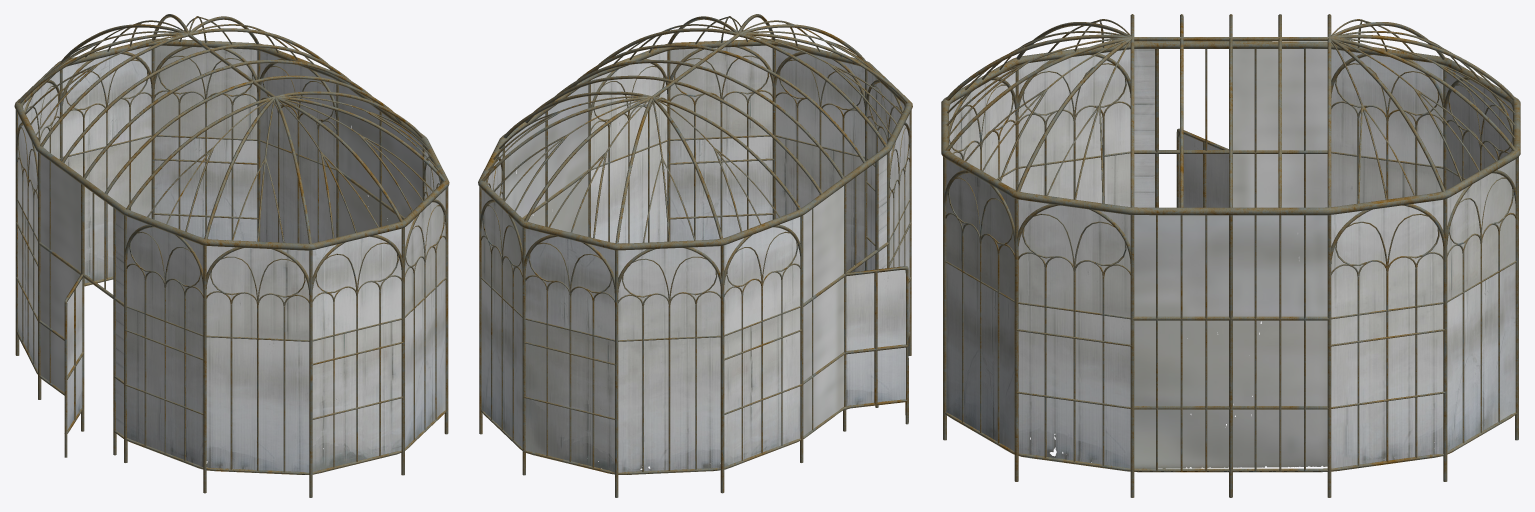
File: greenhouseEdit.fbx
3 renders of one model, left to right at view 1: azimuth 30°, elevation 25°; view 2: azimuth 150°, elevation 25°; view 3: azimuth 270°, elevation 25°, orthographic. The views are drawn at different scales.
Visible parts, largest first — view 1: 面, 杆件, 面.001; view 2: 面, 杆件, 面.001; view 3: 面, 杆件, 面.001.
Boxes of the visible parts, bbox=[...] form: 面: bbox=[18, 45, 445, 472]; 杆件: bbox=[14, 14, 449, 497]; 面.001: bbox=[64, 274, 84, 457]; 面: bbox=[481, 45, 909, 472]; 杆件: bbox=[478, 14, 912, 497]; 面.001: bbox=[845, 266, 908, 424]; 面: bbox=[946, 48, 1515, 468]; 杆件: bbox=[941, 14, 1520, 497]; 面.001: bbox=[1176, 128, 1228, 207].
Bounding box in the file's own units: 459 × 422 × 588.
